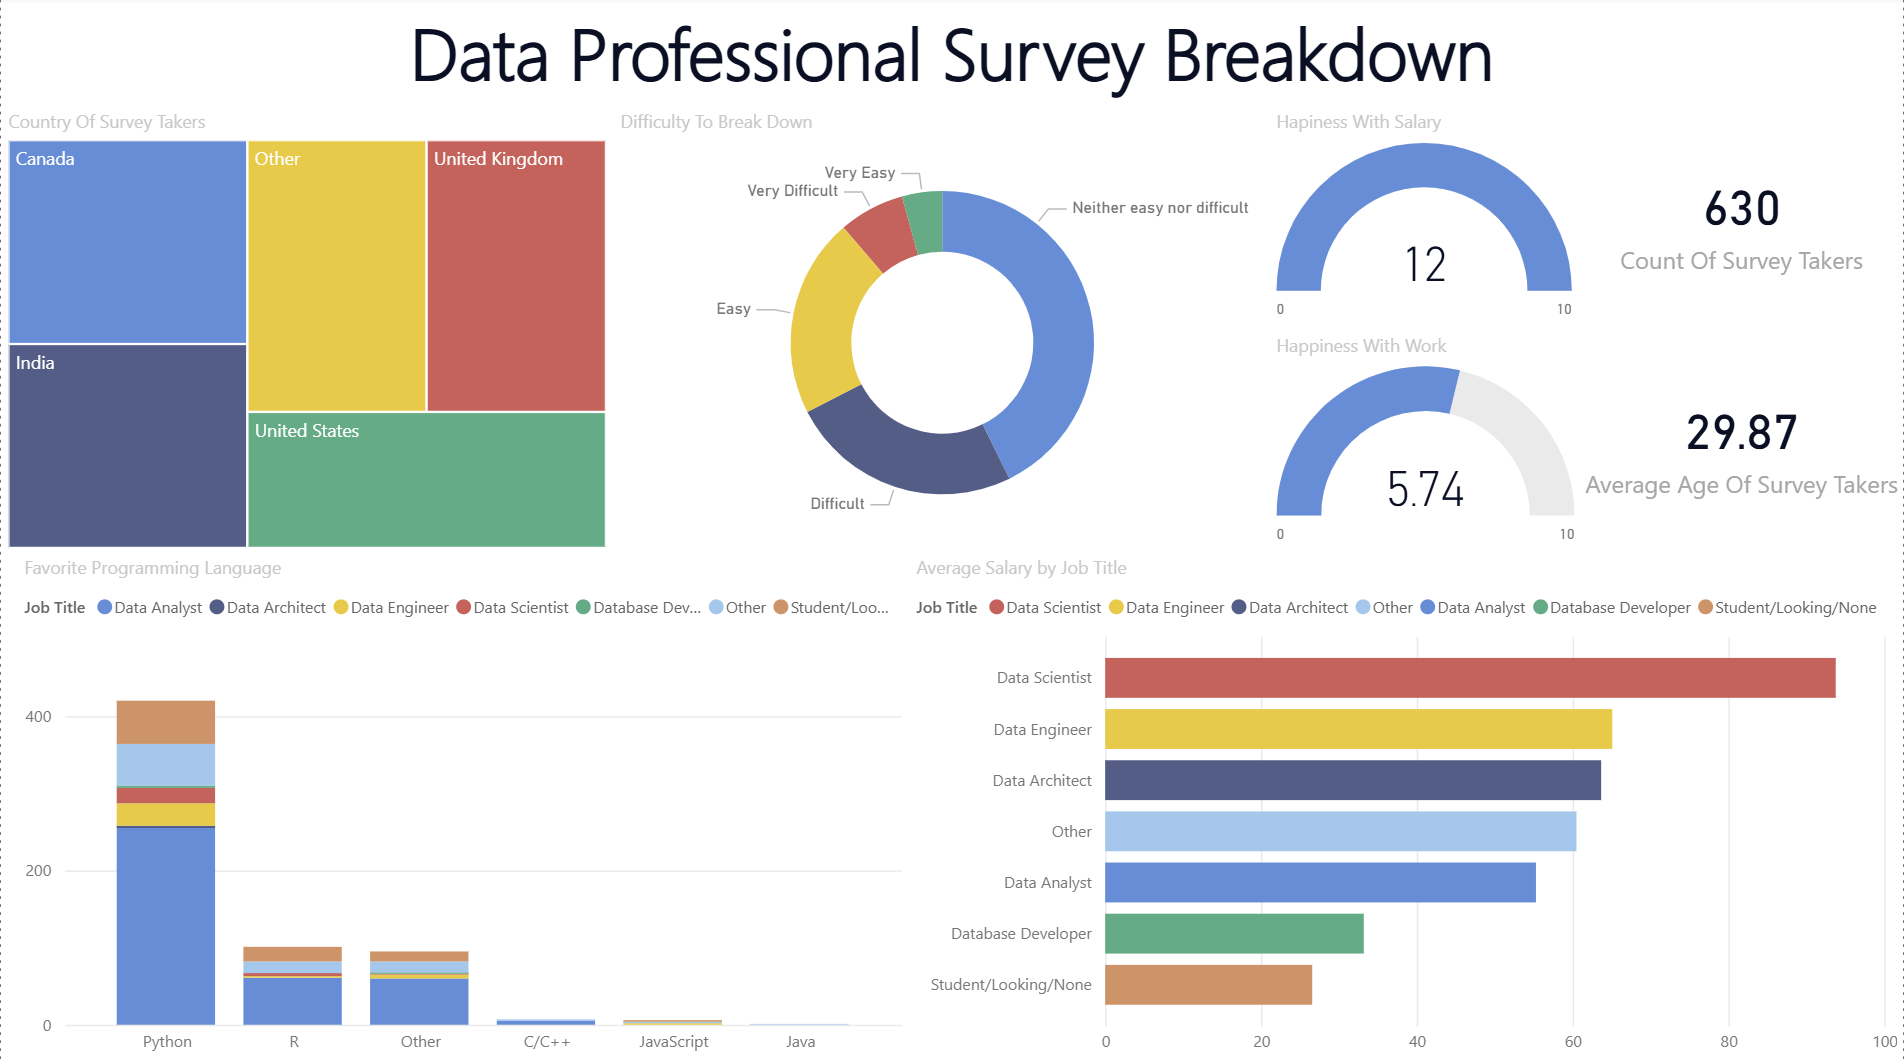

Layout of this report page (visuals, bound fields, positions):
{"tool":"powerbi","page":{"name":"Page 1","canvas":[1280,720],"ordinal":0},"visuals":[{"type":"textbox","box":[0,0,1280,76.9],"z":0},{"type":"card","fields":{"Values":["Count(Data Professional Survey.Unique ID)"]},"box":[1060.3,76.9,221.6,150.2],"z":1},{"type":"card","fields":{"Values":["Avg(Data Professional Survey.Q10 - Current Age)"]},"box":[1060.3,227.1,221.6,150.2],"z":2},{"type":"barChart","title":"Average Salary by Job Title  ","fields":{"Category":["Data Professional Survey.Q1 - Which Title Best Fits your Current Role?.1"],"Y":["Avg(Data Professional Survey.Average SalaryCustom)"],"Series":["Data Professional Survey.Q1 - Which Title Best Fits your Current Role?.1"]},"box":[611.6,377.2,670.2,344.3],"z":3},{"type":"columnChart","title":"Favorite Programming Language","fields":{"Category":["Data Professional Survey.Q5 - Favorite Programming Language.1"],"Y":["CountNonNull(Data Professional Survey.Unique ID)"],"Series":["Data Professional Survey.Q1 - Which Title Best Fits your Current Role?.1"]},"box":[11,377.2,600.6,344.3],"z":4},{"type":"treemap","title":"Country Of Survey Takers","fields":{"Group":["Data Professional Survey.Q11 - Which Country do you live in?.1"],"Values":["Count(Data Professional Survey.Q11 - Which Country do you live in?.1)"]},"box":[0,76.9,412,300.3],"z":5},{"type":"gauge","title":"Happiness With Work","fields":{"Y":["Avg(Data Professional Survey.Q6 - How Happy are you in your Current Position with the following? (Work/Life Balance))"],"MinValue":["Min(Data Professional Survey.Q6 - How Happy are you in your Current Position with the following? (Work/Life Balance))"],"MaxValue":["Max(Data Professional Survey.Q6 - How Happy are you in your Current Position with the following? (Work/Life Balance))1"]},"box":[853.3,227.1,210.6,150.2],"z":6},{"type":"gauge","title":"Hapiness With Salary","fields":{"Y":["Count(Data Professional Survey.Q6 - How Happy are you in your Current Position with the following? (Salary))"],"MinValue":["Min(Data Professional Survey.Q6 - How Happy are you in your Current Position with the following? (Salary))"],"MaxValue":["Max(Data Professional Survey.Q6 - How Happy are you in your Current Position with the following? (Salary))"]},"box":[853.3,76.9,208.8,150.2],"z":7},{"type":"donutChart","title":"Difficulty To Break Down","fields":{"Category":["Data Professional Survey.Q7 - How difficult was it for you to break into Data?"],"Y":["CountNonNull(Data Professional Survey.Q7 - How difficult was it for you to break into Data?)"]},"box":[412,76.9,443.1,298.5],"z":8}]}

Visuals, with their boxes in screenshot pixels (x1, y1, x2, y2), scaled from the page's 1280x720 canvas onto the 1904x1063 screenshot:
textbox: 0:0:1903:114
card - Count(Data Professional Survey.Unique ID): 1577:114:1903:335
card - Avg(Data Professional Survey.Q10 - Current Age): 1577:335:1903:557
"Average Salary by Job Title  " barChart: 910:557:1903:1062
"Favorite Programming Language" columnChart: 16:557:910:1062
"Country Of Survey Takers" treemap: 0:114:613:557
"Happiness With Work" gauge: 1269:335:1583:557
"Hapiness With Salary" gauge: 1269:114:1580:335
"Difficulty To Break Down" donutChart: 613:114:1272:554
